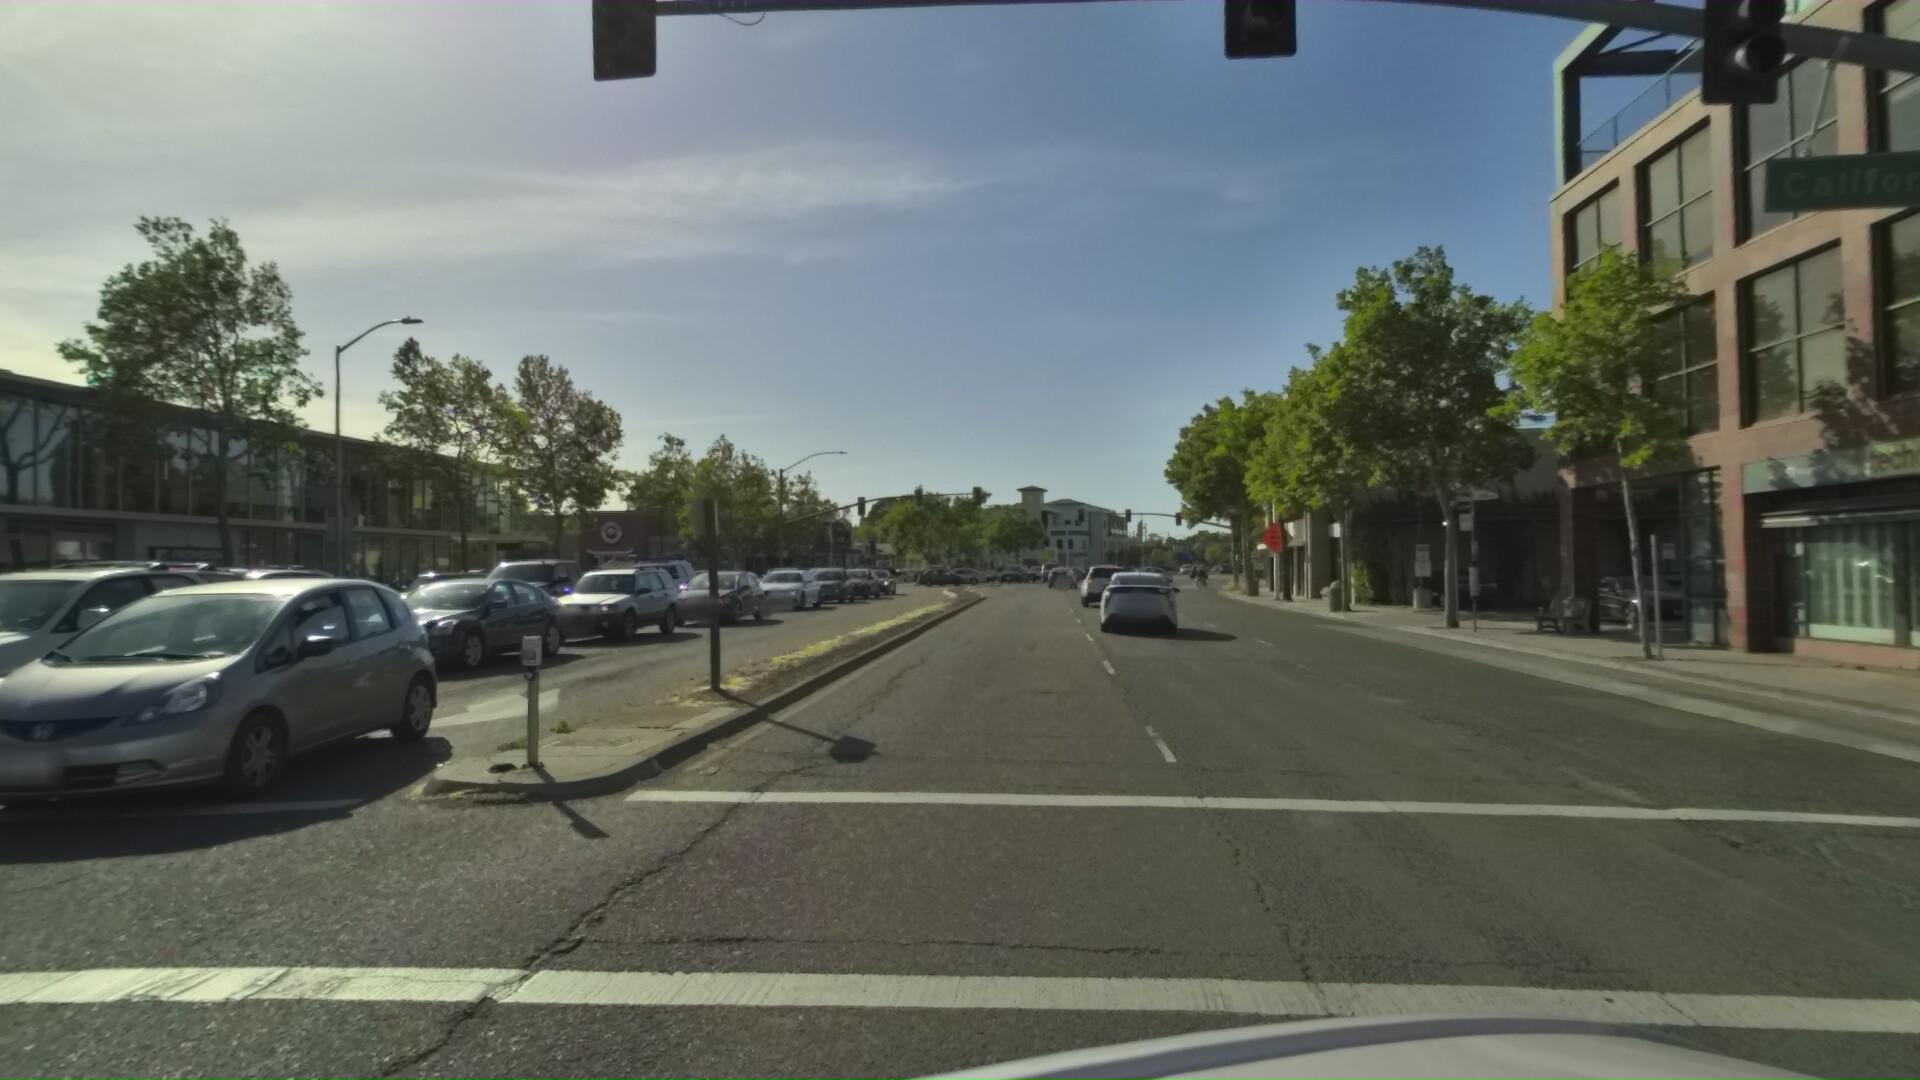bicycle: (1196, 558, 1226, 588)
car: (0, 574, 448, 843), (0, 541, 320, 785), (30, 563, 371, 692), (316, 571, 585, 679), (435, 551, 644, 646), (534, 560, 692, 646), (1568, 563, 1731, 628), (368, 567, 517, 636), (669, 566, 775, 626), (603, 555, 705, 616), (1100, 564, 1182, 633), (746, 564, 837, 611), (1424, 563, 1513, 608), (695, 567, 775, 611), (1084, 559, 1137, 607), (808, 563, 866, 605), (833, 564, 891, 603), (816, 560, 884, 585), (923, 563, 988, 588), (1126, 560, 1189, 585), (861, 564, 906, 597), (926, 564, 986, 588), (1098, 558, 1135, 593), (1120, 562, 1153, 592), (1052, 562, 1087, 591)
